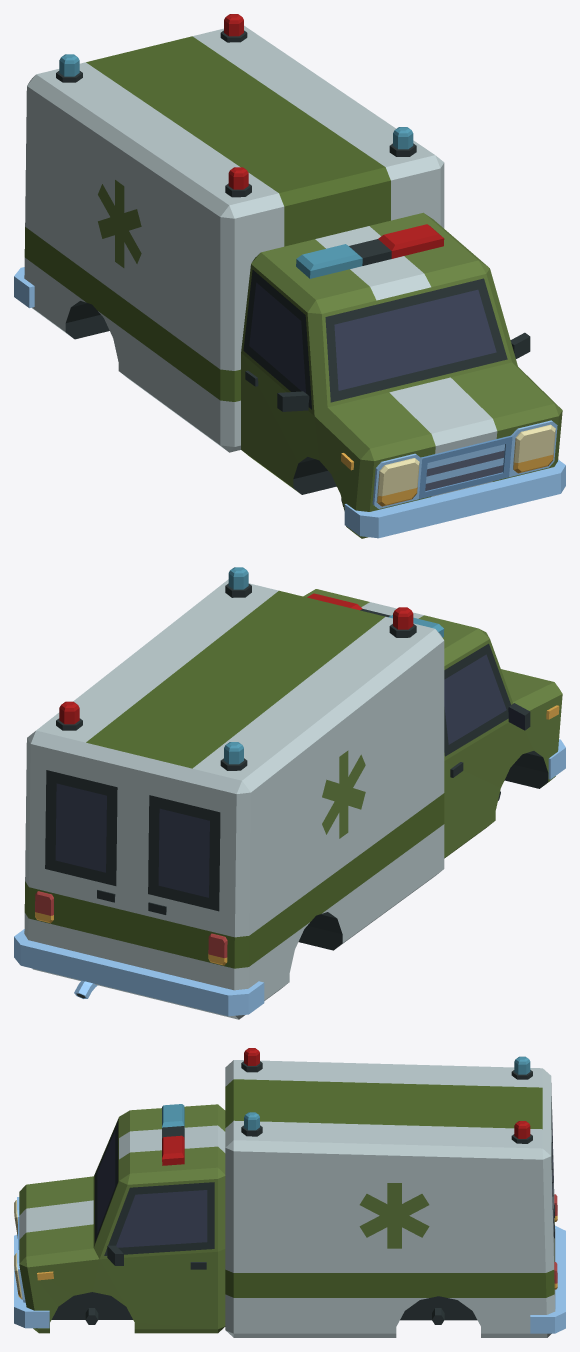
File: Ambulance.fbx
3 renders of one model, top to bottom at view 1: azimuth 30°, elevation 25°; view 2: azimuth 150°, elevation 25°; view 3: azimuth 270°, elevation 25°, orthographic. The views are drawn at different scales.
Visible parts, largest first — view 1: Ambulance; view 2: Ambulance; view 3: Ambulance.
Part boxes in pixels (x1,y1,x2,y2): Ambulance: (14, 14, 565, 538); Ambulance: (14, 567, 565, 1019); Ambulance: (14, 1048, 565, 1337).
Bounding box in the file's own units: 176 × 191 × 425.
